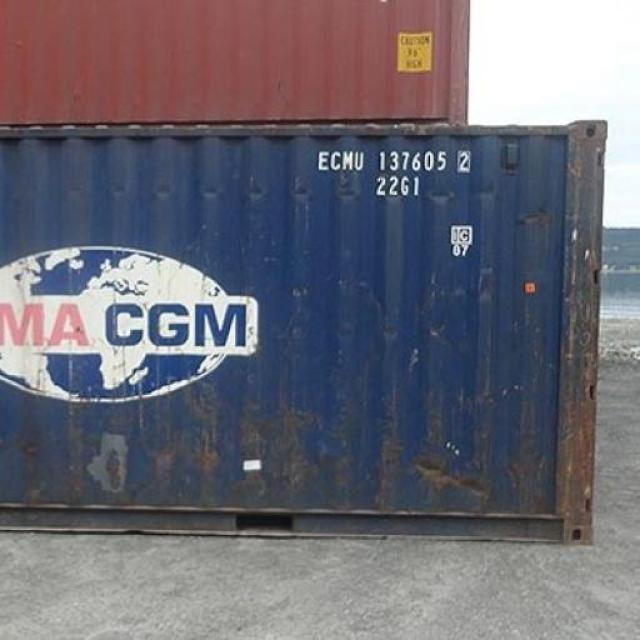ISO: (376, 175, 424, 198)
container_number: (322, 146, 476, 172)
